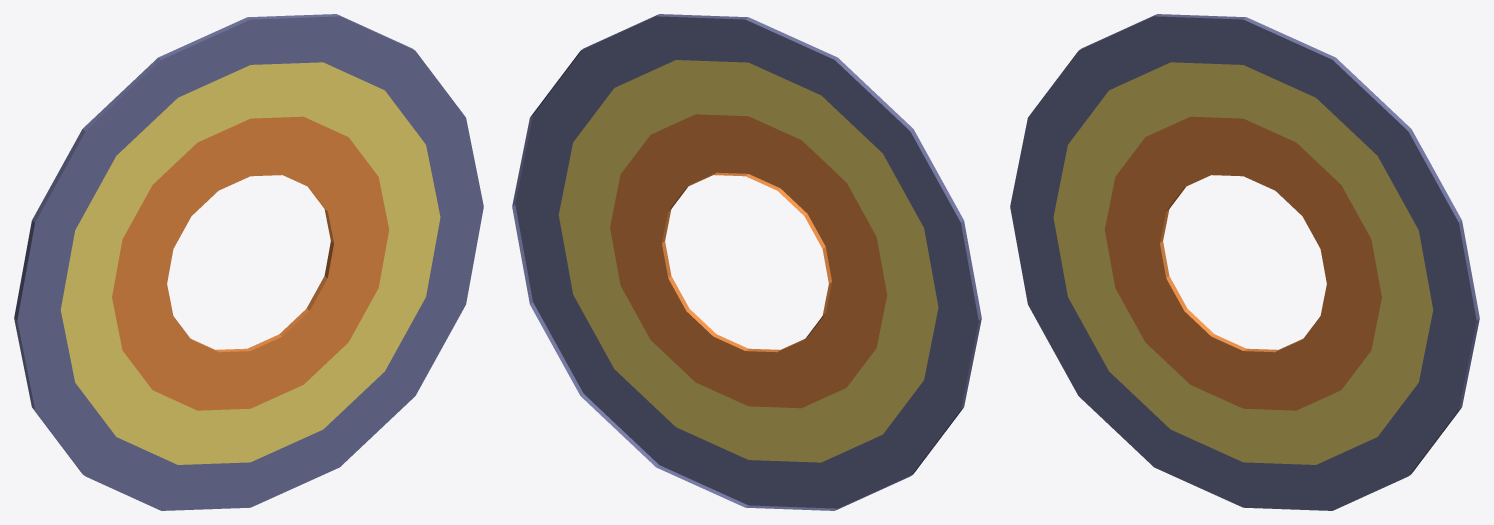
Rendered from Wall_Decoration_2.fbx.
3 views of the same model, side by side, from view 1: azimuth 30°, elevation 25°; view 2: azimuth 150°, elevation 25°; view 3: azimuth 330°, elevation 25° (orthographic).
Parts seen in each view (by area): view 1: Wall_Decoration_2; view 2: Wall_Decoration_2; view 3: Wall_Decoration_2.
Boxes of the visible parts, <box> form: Wall_Decoration_2: <box>14,14,483,510</box>; Wall_Decoration_2: <box>512,14,981,510</box>; Wall_Decoration_2: <box>1010,14,1479,510</box>.
Size of the model in its own units: 257 by 3.09 by 257.
